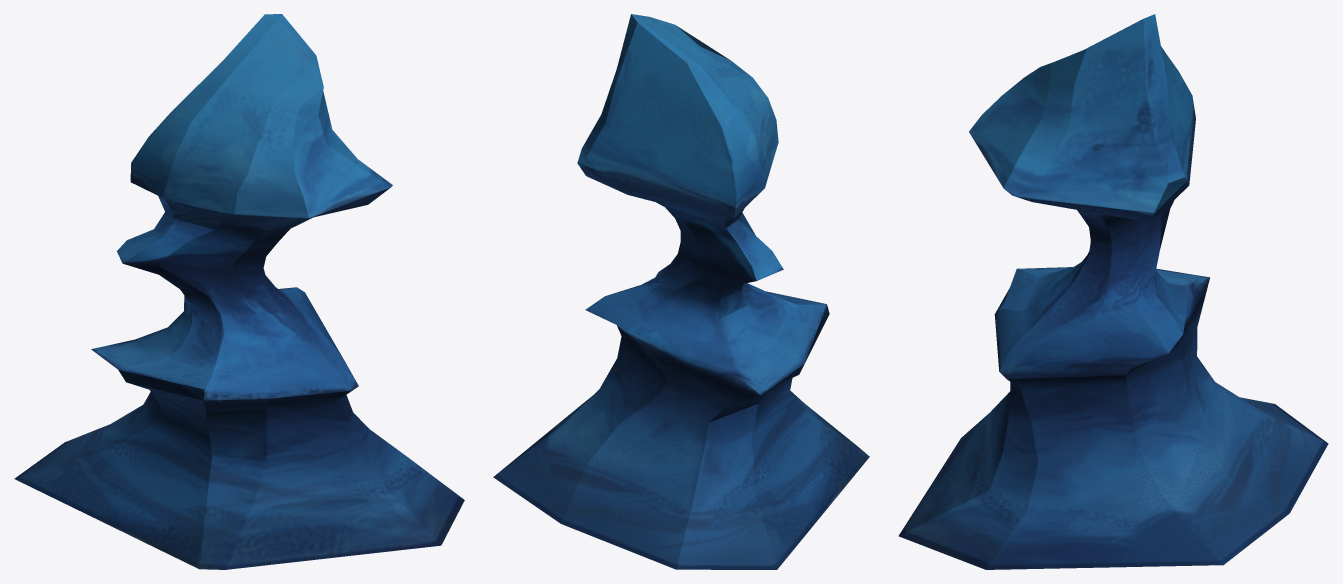
Rendered from rock_tall.fbx.
3 renders of one model, left to right at view 1: azimuth 30°, elevation 25°; view 2: azimuth 150°, elevation 25°; view 3: azimuth 270°, elevation 25°, orthographic. The views are drawn at different scales.
Visible parts, largest first — view 1: zooshi_rock_tall; view 2: zooshi_rock_tall; view 3: zooshi_rock_tall.
Part boxes in pixels (x1,y1,x2,y2): zooshi_rock_tall: (14, 14, 464, 569); zooshi_rock_tall: (493, 14, 869, 569); zooshi_rock_tall: (898, 14, 1328, 569).
Size of the model in its own units: 4.18 by 5.81 by 4.58.
